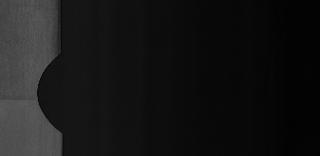welding line: (0, 88, 44, 104)
